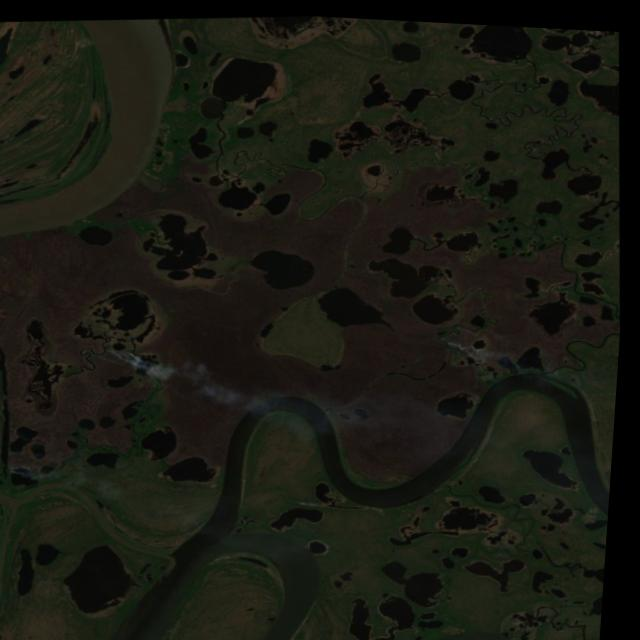fire: (91, 336, 174, 381), (442, 313, 493, 358), (0, 420, 37, 478)
